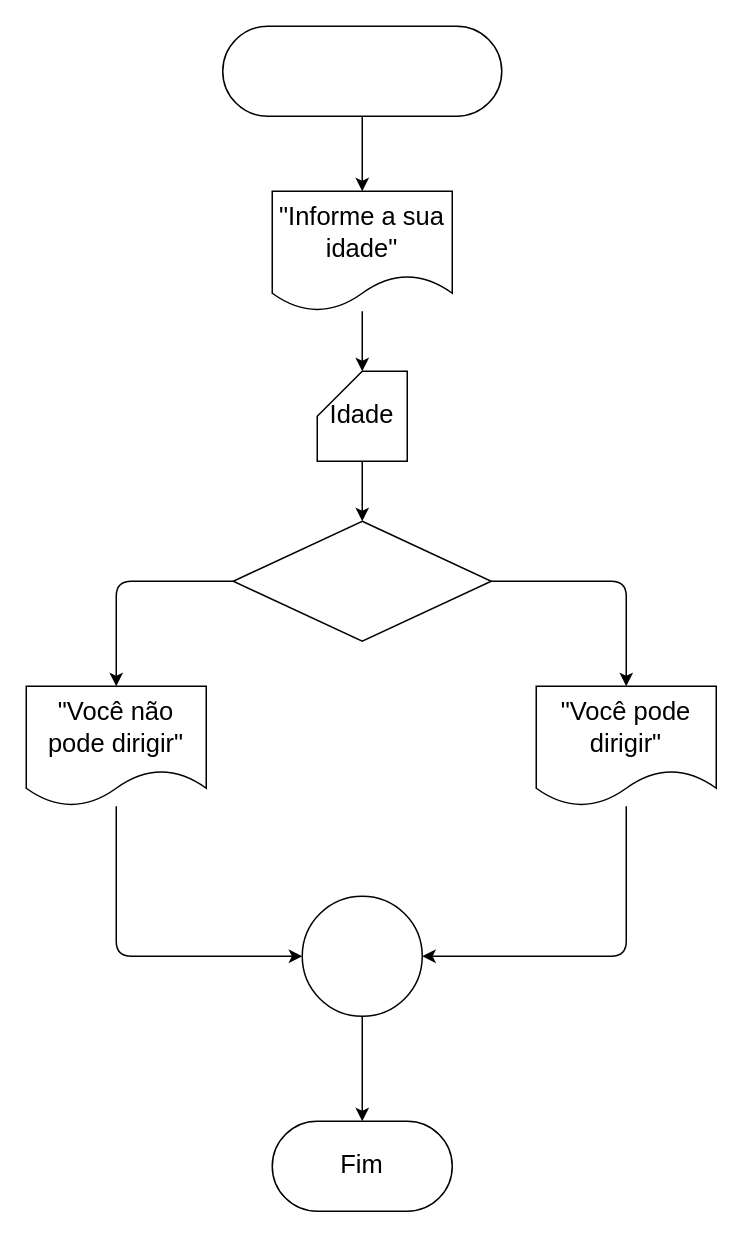
This 743x1238 diagram has some shape labels left out. Here are the shapes that lost their labels. From the top down, the box of each, then its label:
(221, 25, 502, 116): Início
(232, 520, 491, 641): Idade >= 18
